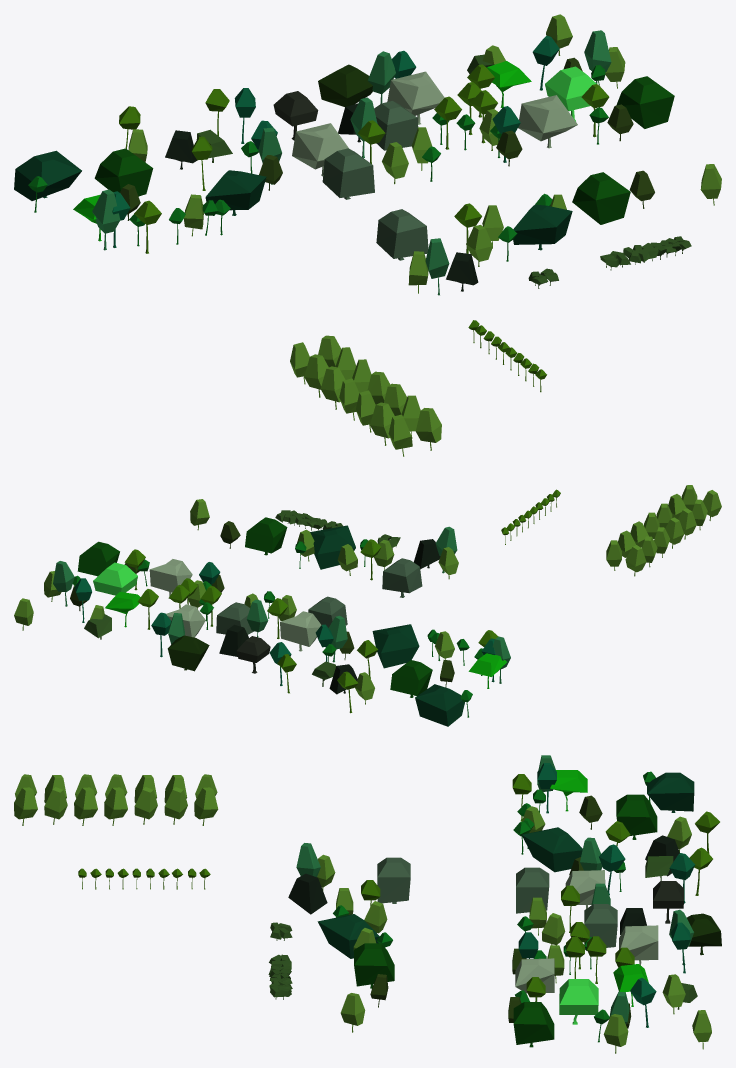
Rendered from SM_Tree.FBX.
3 views of the same model, one above another, from view 1: azimuth 30°, elevation 25°; view 2: azimuth 150°, elevation 25°; view 3: azimuth 270°, elevation 25° (orthographic). The views are drawn at different scales.
Visible parts, largest first — view 1: Box001_064, Box001_070, Box001_055, Box001_010, Box001_075, Box001_006, Box001_080, Box001_009, Box001_005, Box001_065, Box001_007, Box001_008 (+13 smaller); view 2: Box001_065, Box001_064, Box001_080, Box001_075, Box001_070, Box001_009, Box001_007, Box001_008, Box001_057, Box001_010, Box001_006, Box001_054 (+19 smaller); view 3: Box001_065, Box001_064, Box001_010, Box001_075, Box001_070, Box001_009, Box001_057, Box001_080, Box001_055, Box001_005, Box001_054, Box001_006 (+27 smaller).
Part boxes in pixels (box(x1,y1,x2,y2)): Box001_064: box(14, 150, 81, 200); Box001_070: box(572, 172, 630, 224); Box001_055: box(322, 148, 374, 199); Box001_010: box(616, 76, 674, 128); Box001_075: box(376, 209, 428, 260); Box001_006: box(518, 95, 577, 148); Box001_080: box(513, 204, 572, 250); Box001_009: box(94, 148, 153, 196); Box001_005: box(387, 71, 444, 124); Box001_065: box(205, 170, 266, 215); Box001_007: box(292, 123, 348, 176); Box001_008: box(318, 64, 372, 106); Box001_065: box(372, 624, 419, 668); Box001_064: box(415, 684, 464, 726); Box001_080: box(310, 525, 355, 569); Box001_075: box(382, 558, 422, 597); Box001_070: box(245, 517, 287, 555); Box001_009: box(390, 660, 432, 697); Box001_007: box(280, 611, 321, 651); Box001_008: box(167, 635, 209, 671); Box001_057: box(93, 562, 137, 595); Box001_010: box(77, 541, 119, 576); Box001_006: box(149, 559, 192, 598); Box001_054: box(216, 602, 253, 634); Box001_065: box(522, 827, 582, 872); Box001_064: box(647, 772, 694, 812); Box001_010: box(513, 1002, 554, 1047); Box001_075: box(377, 857, 410, 903); Box001_070: box(354, 943, 394, 988); Box001_009: box(616, 794, 657, 839); Box001_057: box(559, 979, 598, 1024); Box001_080: box(317, 914, 379, 958); Box001_055: box(516, 867, 549, 913); Box001_005: box(619, 925, 658, 965); Box001_054: box(584, 904, 617, 949); Box001_006: box(515, 958, 554, 1001).
Bounding box in the file's own units: 22669 × 2171 × 26372.
